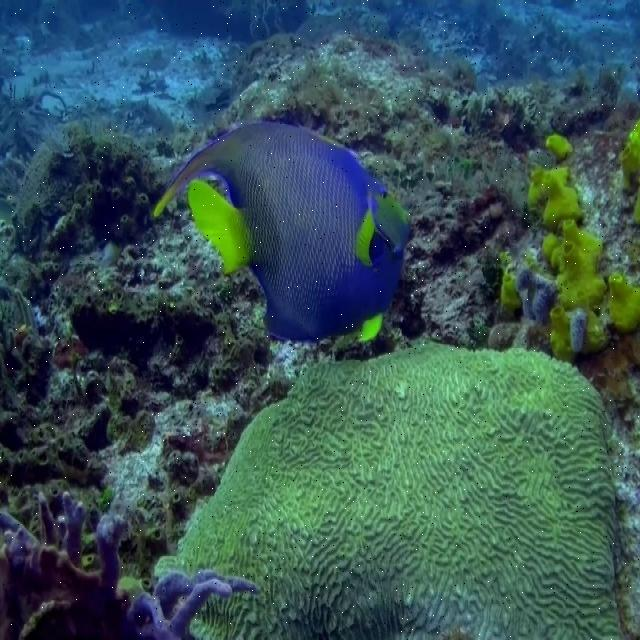fish: (154, 110, 413, 341)
reefs: (153, 342, 624, 638), (0, 495, 257, 639)
